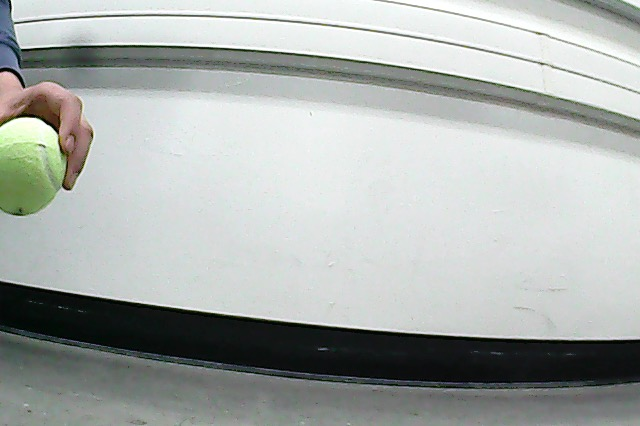ball: (1, 119, 68, 215)
